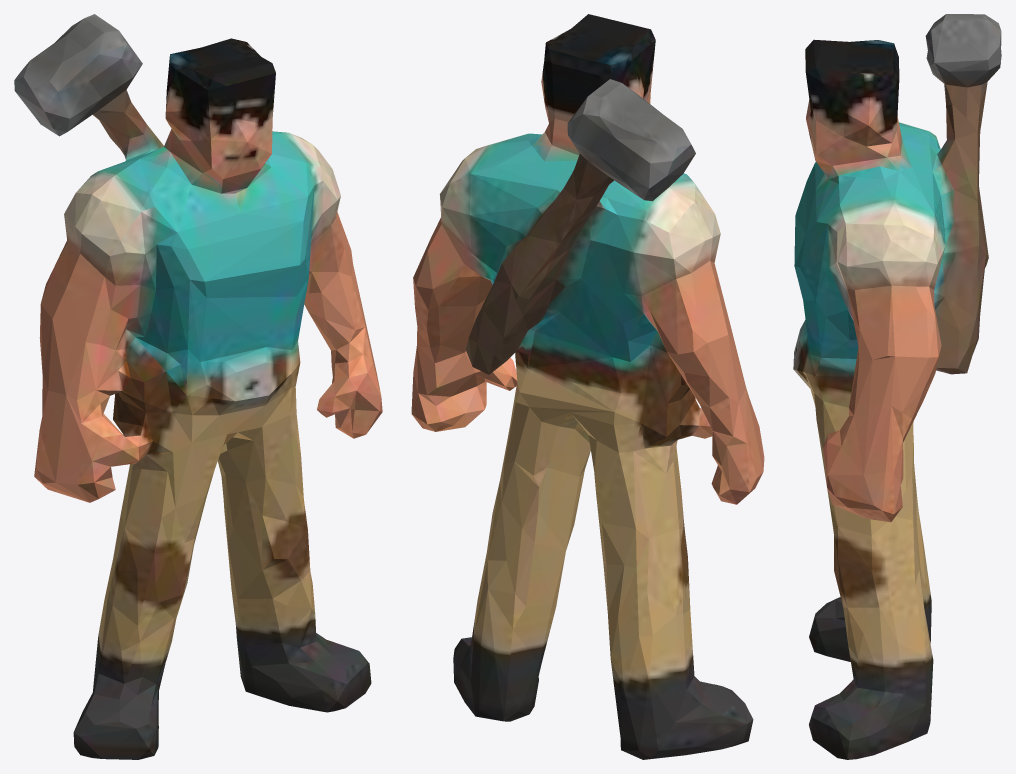
Rendered from habitant-loin.glb.
3 views of the same model, side by side, from view 1: azimuth 30°, elevation 25°; view 2: azimuth 150°, elevation 25°; view 3: azimuth 270°, elevation 25° (orthographic). The views are drawn at different scales.
Parts seen in each view (by area): view 1: habitant; view 2: habitant; view 3: habitant.
Part boxes in pixels (x1,y1,x2,y2): habitant: [14, 14, 382, 759]; habitant: [411, 14, 764, 759]; habitant: [793, 14, 1001, 759].
Size of the model in its own units: 0.5309 by 1.01 by 0.291.
Materials: 1 (1 with a texture image).
